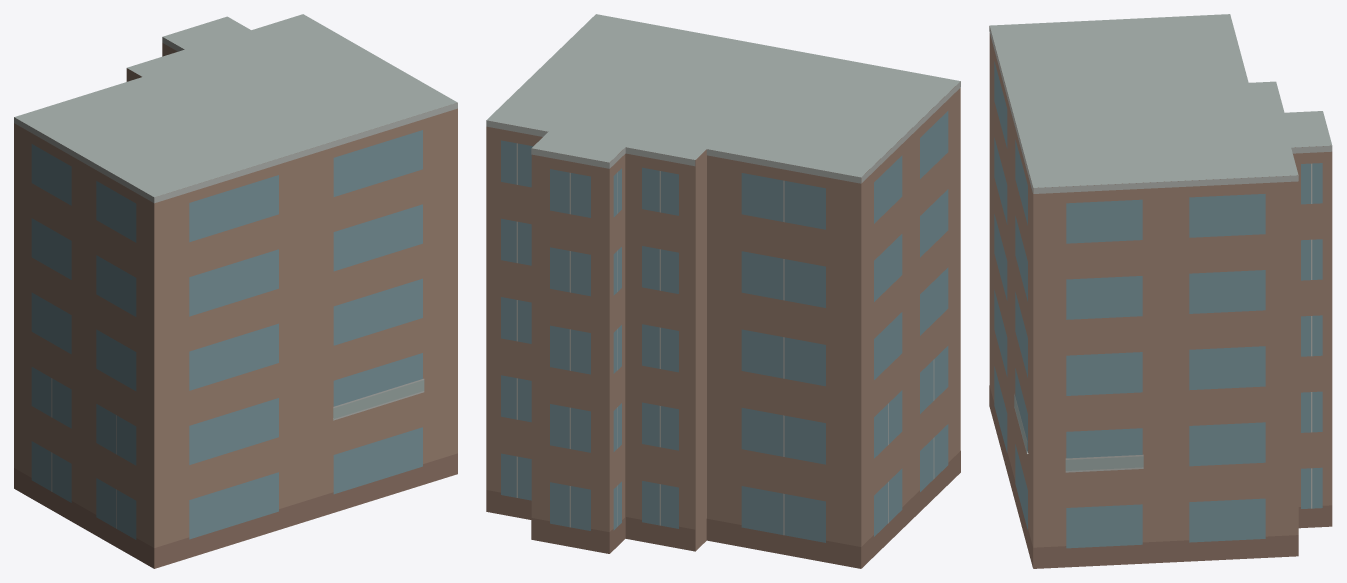
File: survey-upis-32972061.glb
The picture shows the model from 3 angles, left to right: view 1: azimuth 30°, elevation 25°; view 2: azimuth 150°, elevation 25°; view 3: azimuth 270°, elevation 25°; orthographic projection. The views are drawn at different scales.
Visible parts, largest first — view 1: survey-upis-32972061.tmp; view 2: survey-upis-32972061.tmp; view 3: survey-upis-32972061.tmp.
Boxes of the visible parts, box(x1,y1,x2,y2) form: survey-upis-32972061.tmp: box(14, 14, 457, 568); survey-upis-32972061.tmp: box(486, 14, 960, 568); survey-upis-32972061.tmp: box(989, 14, 1332, 568).
Size of the model in its own units: 14.95 by 15.25 by 12.45.
